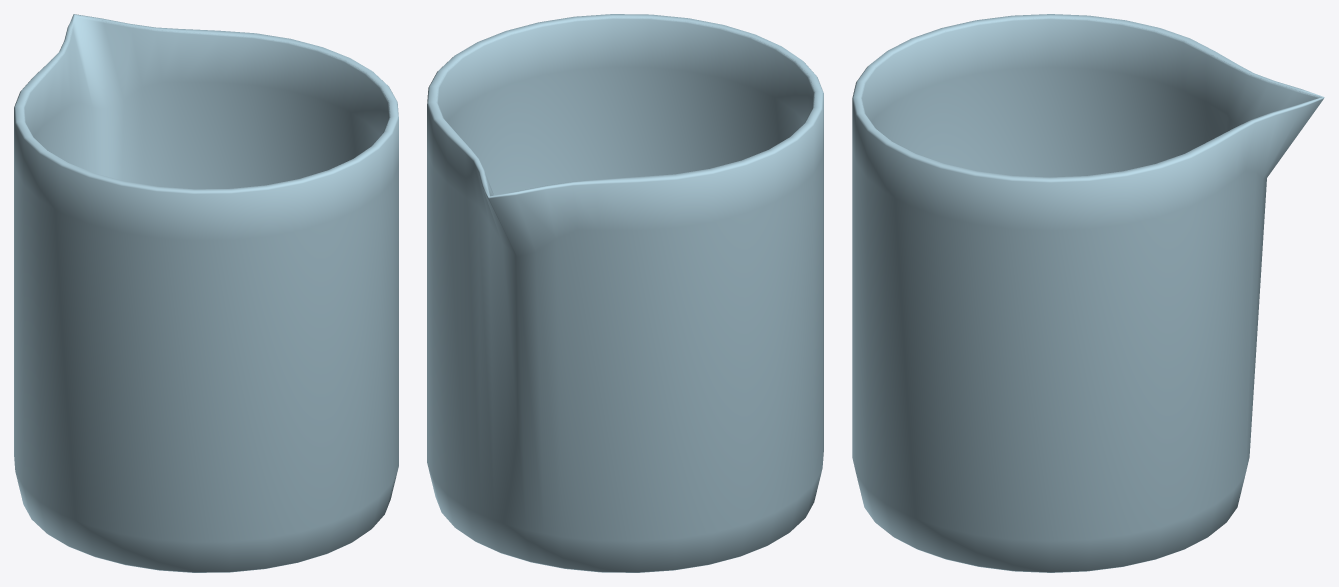
File: erlenmeyer.fbx
3 views of the same model, side by side, from view 1: azimuth 30°, elevation 25°; view 2: azimuth 150°, elevation 25°; view 3: azimuth 270°, elevation 25° (orthographic). The views are drawn at different scales.
Visible parts, largest first — view 1: erlenmeyer, erlenmeyer_interior; view 2: erlenmeyer, erlenmeyer_interior; view 3: erlenmeyer, erlenmeyer_interior.
Boxes of the visible parts, <box> form: erlenmeyer: <box>14,14,398,572</box>; erlenmeyer_interior: <box>24,15,390,188</box>; erlenmeyer: <box>427,14,823,572</box>; erlenmeyer_interior: <box>436,16,814,195</box>; erlenmeyer: <box>852,14,1324,572</box>; erlenmeyer_interior: <box>861,17,1321,177</box>.
Size of the model in its own units: 8 by 8.8 by 9.51.
